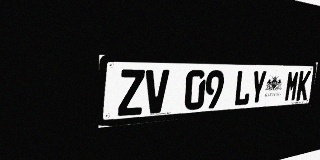0: (184, 70, 206, 111)
9: (204, 70, 225, 109)
K: (296, 71, 311, 101)
L: (233, 70, 252, 106)
M: (284, 71, 300, 102)
V: (144, 69, 169, 114)
Y: (249, 70, 267, 105)
Z: (118, 69, 145, 116)
